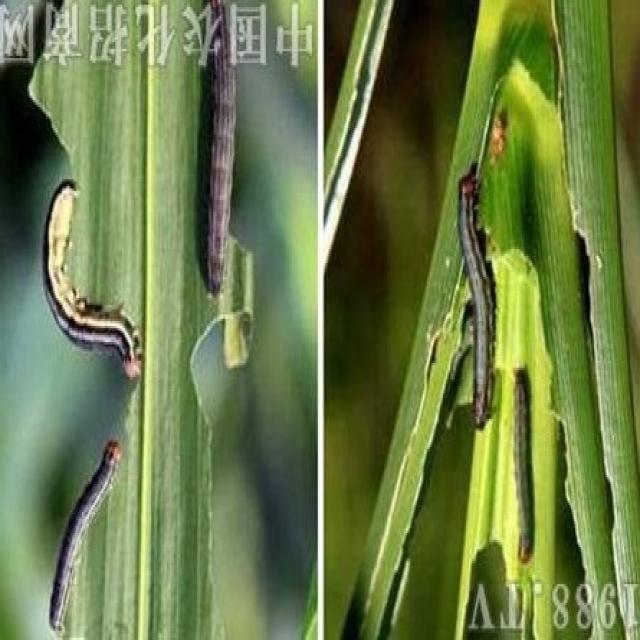army worm: (33, 170, 147, 395), (48, 438, 124, 636), (198, 1, 238, 308), (453, 170, 499, 433), (498, 363, 541, 575)
